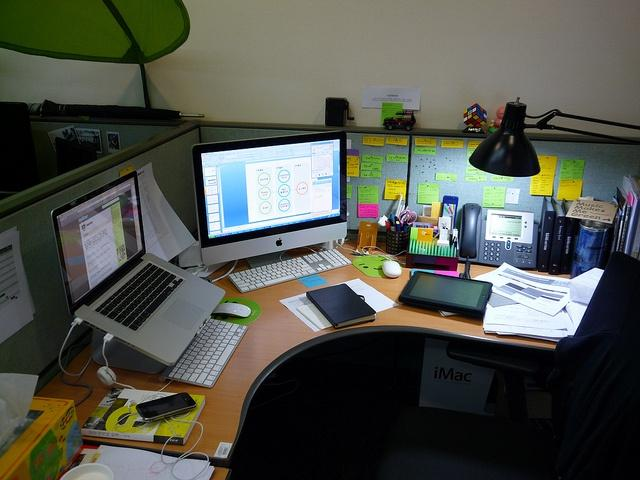AIO PC-Monitor-TV: (190, 129, 348, 266)
